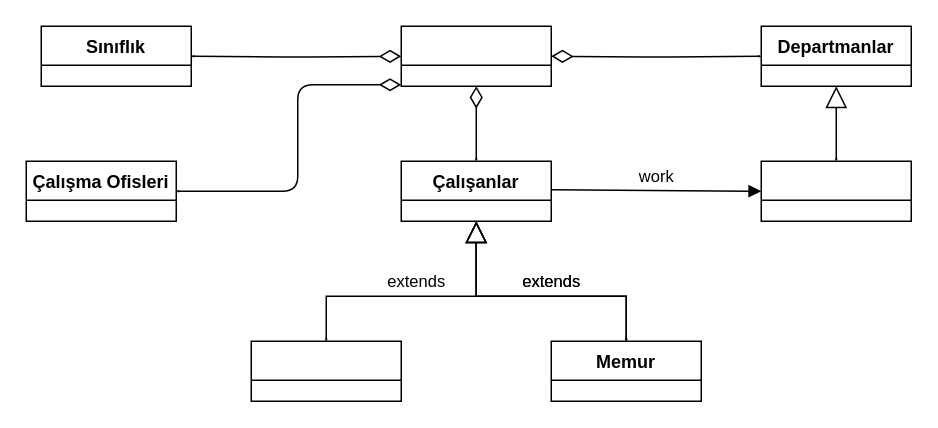
Image size: 938x428. Some labels were removed from this diagram. The centre of each missing label's shape, as x and y in pixels:
"Ofisler" belongs at [835,190].
"Profesör" belongs at [325,370].
"Üniversite" belongs at [475,55].
